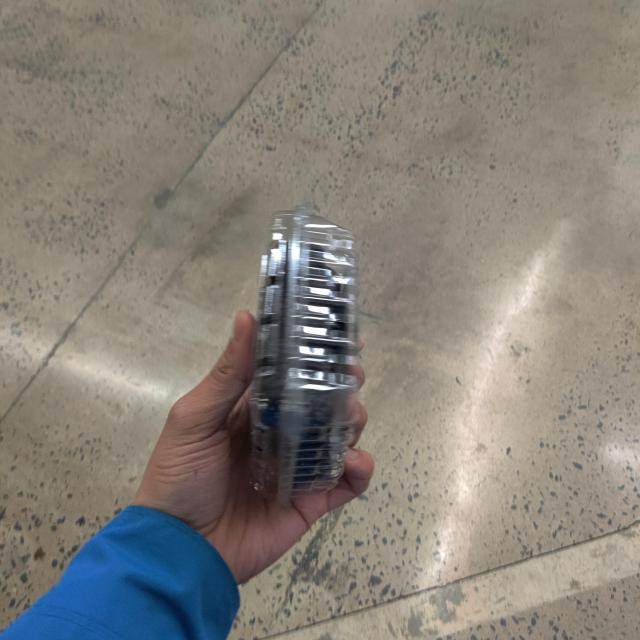Blackberries: (239, 217, 378, 514)
